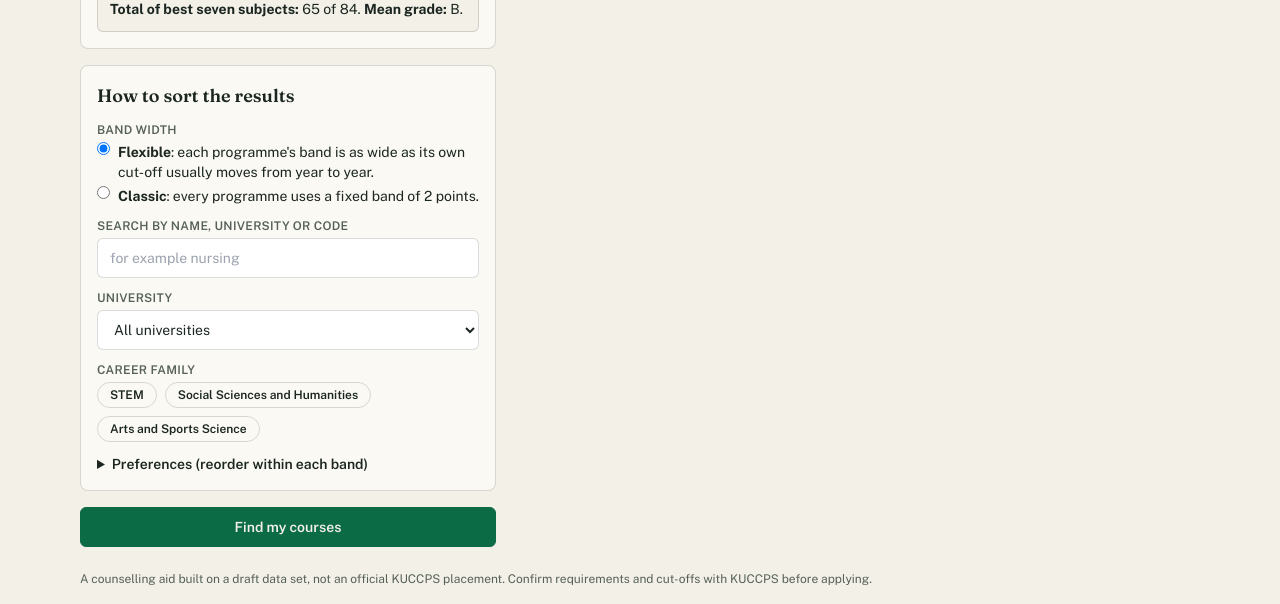
Scenario: finding courses › switches bands and explains why an excluded programme is excluded
The width and height of the screenshot is (1280, 604).
(page scrolled)
Click the button "Find my courses" at (288, 527), box x1=80 y1=507 x2=496 y2=547
(page scrolled)
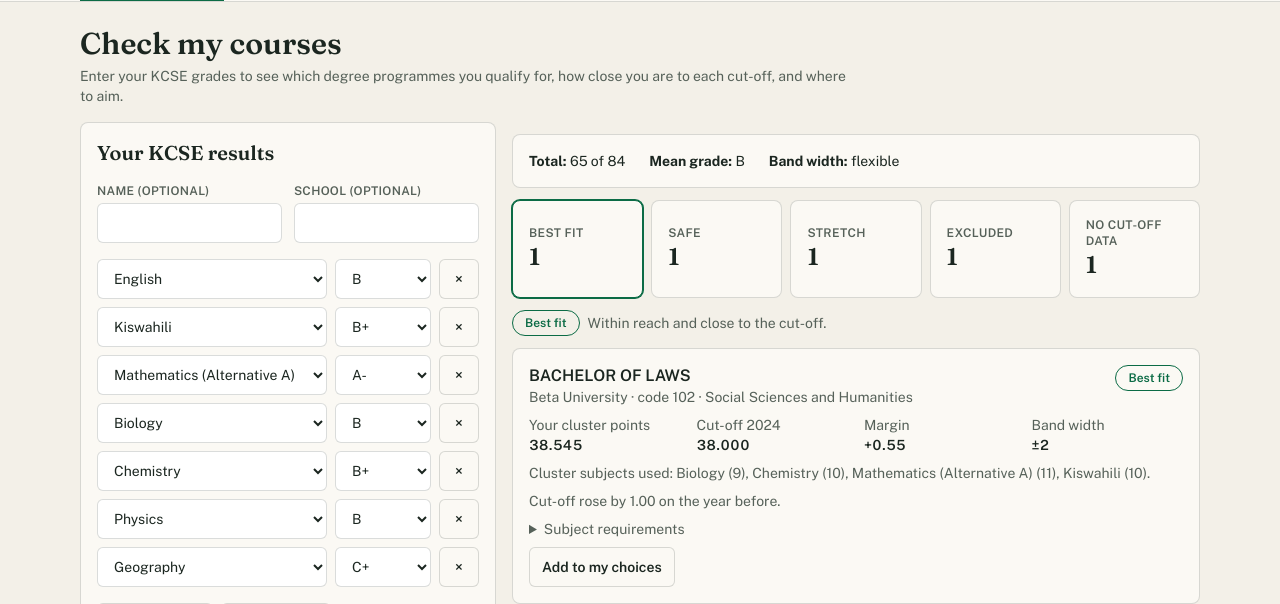
Click the tab "Excluded 1" at (995, 249), box x1=930 y1=200 x2=1061 y2=298
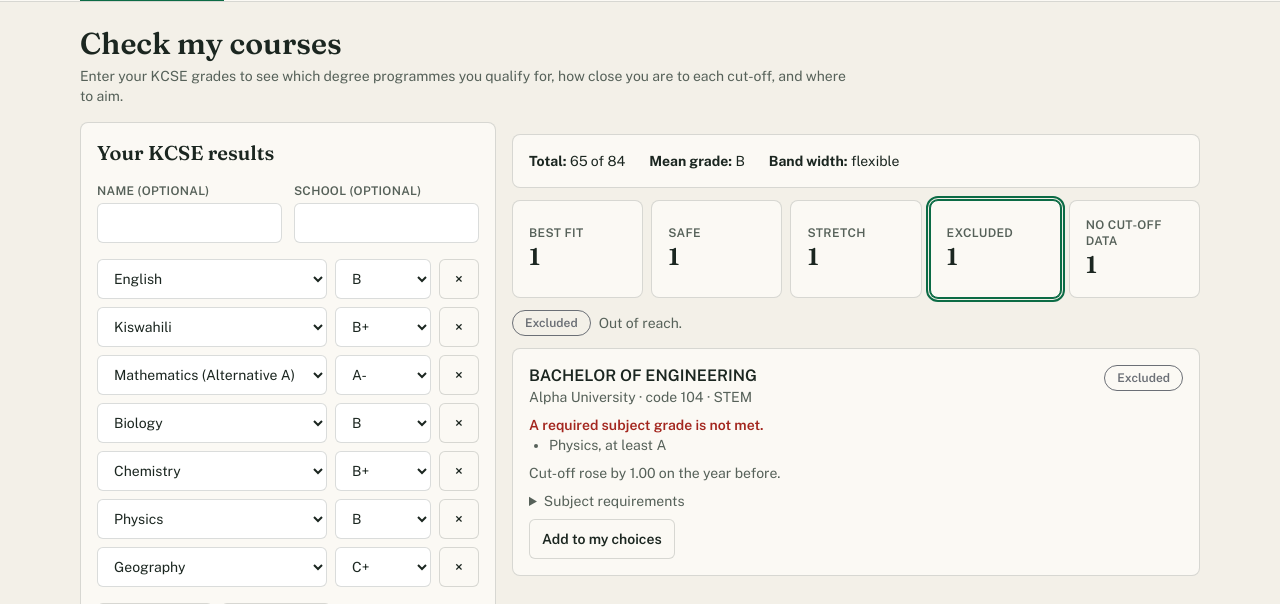
Check: the element "BACHELOR OF ENGINEERING" shows "A required subject grade is not met", box x1=529 y1=417 x2=764 y2=433
Check: the element "BACHELOR OF ENGINEERING" shows "Physics, at least A", box x1=549 y1=437 x2=666 y2=453
